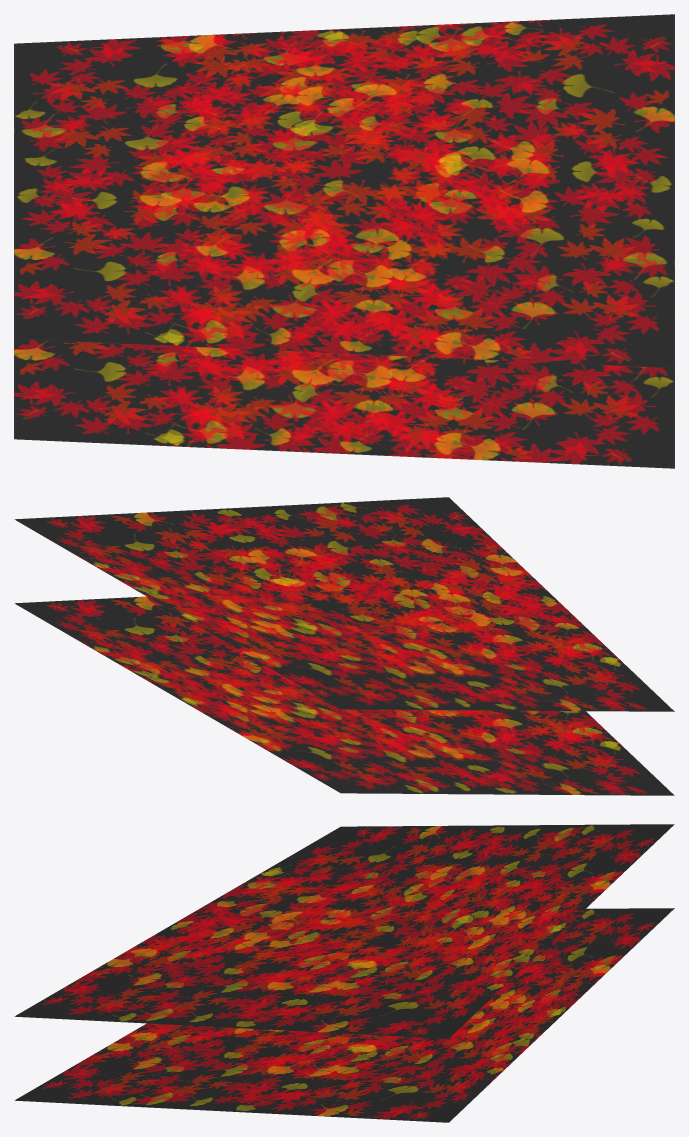
File: OBJ_CourseAki_CurveFloor_3_23.fbx
The picture shows the model from 3 angles, top to bottom: view 1: azimuth 30°, elevation 25°; view 2: azimuth 150°, elevation 25°; view 3: azimuth 270°, elevation 25°; orthographic projection. The views are drawn at different scales.
Parts seen in each view (by area): view 1: polySurface211, polySurface254; view 2: polySurface211, polySurface254; view 3: polySurface211, polySurface254.
Part boxes in pixels (<box>): polySurface211: <box>14,14,674,368</box>; polySurface254: <box>14,339,674,468</box>; polySurface211: <box>14,497,674,711</box>; polySurface254: <box>14,596,674,795</box>; polySurface211: <box>14,824,674,1038</box>; polySurface254: <box>14,908,674,1122</box>.
Bounding box in the file's own units: 7.56 × 2 × 7.13.
1 material, 1 textured.
